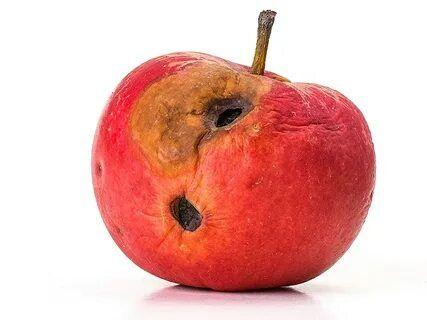Apple: (91, 52, 376, 291)
